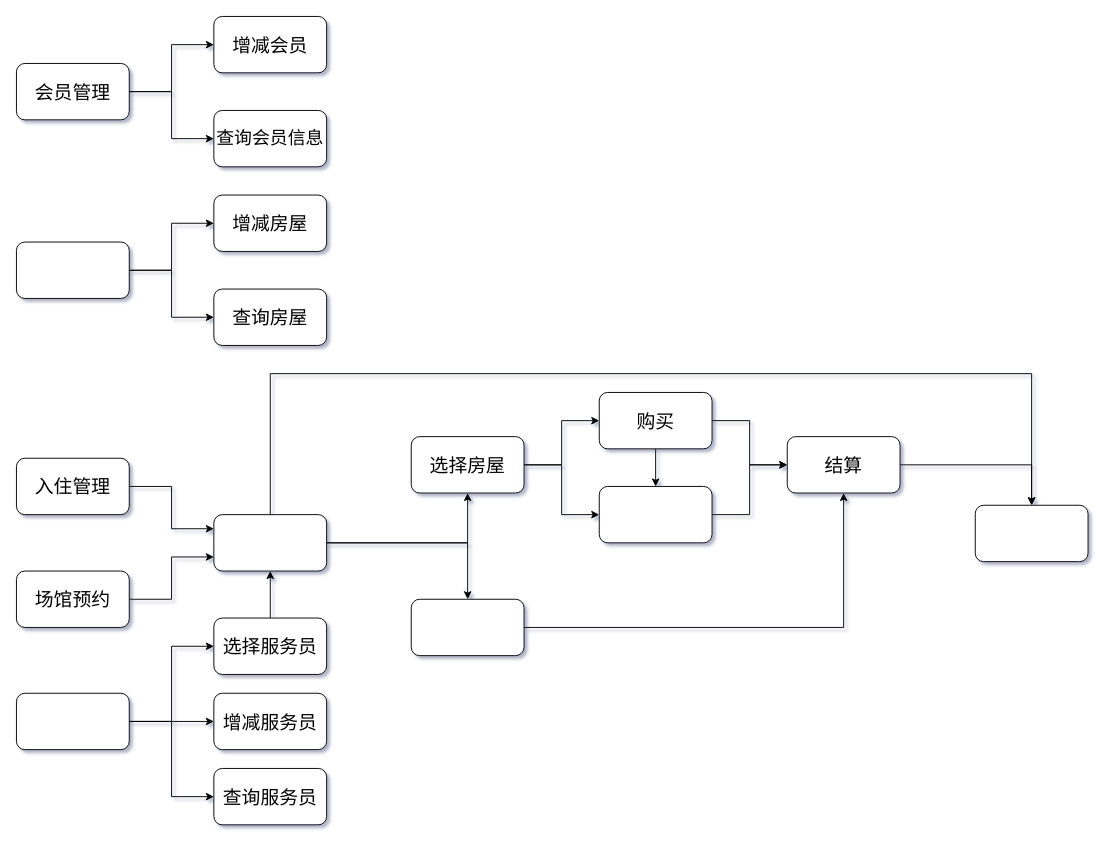
This 1110x847 diagram has some shape labels left out. The centre of each missing label's shape, as x and y in pixels:
"入住" goes at (655,514).
"成功" goes at (1031,533).
"房屋管理" goes at (72,269).
"服务管理" goes at (72,721).
"选择会员" goes at (270,542).
"选择场馆" goes at (467,627).
